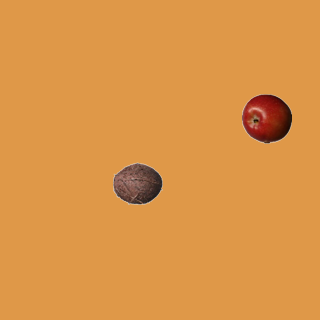Apple Braeburn: (241, 93, 291, 143)
Cocos: (112, 158, 162, 208)
